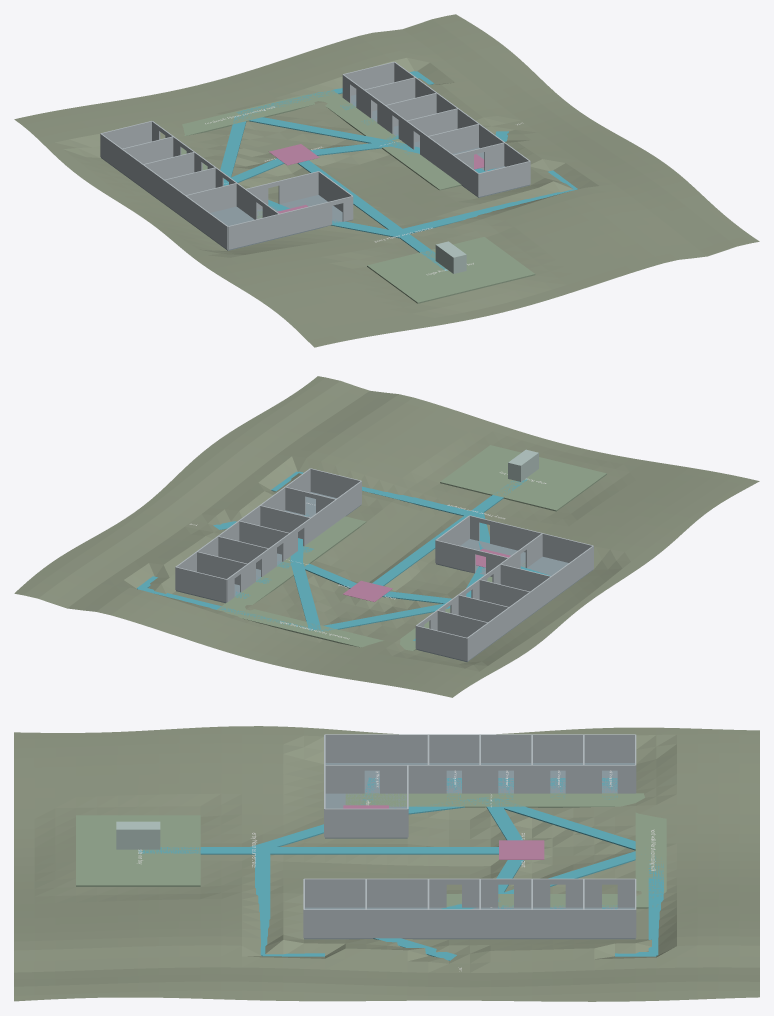
File: rough-shell.glb
The picture shows the model from 3 angles, top to bottom: view 1: azimuth 30°, elevation 25°; view 2: azimuth 150°, elevation 25°; view 3: azimuth 270°, elevation 25°; orthographic projection. The views are drawn at different scales.
Parts seen in each view (by area): view 1: Authored roadside terrain, Floor stage, Floor eastwalk, Floor northwalk, Wall office S, Wall plant S, Wall manager S, Wall manager W, route-07 support 0, Wall office N.001, Wall manager N, route-13 support 1 (+18 smaller); view 2: Authored roadside terrain, Floor stage, Floor eastwalk, Floor northwalk, Wall room1 N, Wall room5 N, Wall manager W, Wall office N.001, Wall office S, Wall plant S, Wall manager S, route-07 support 0 (+18 smaller); view 3: Authored roadside terrain, Floor stage, Floor westwalk, Wall manager W, Floor northwalk, Wall office E, route-03 support 0, Wall laundry E, Wall plant E, Wall laundry W, Wall plant W, Wall room8 E (+40 smaller).
Boxes of the visible parts, x1,y1,x2,y2 form: Authored roadside terrain: (14,14,759,347); Floor stage: (367,237,535,303); Floor eastwalk: (325,97,461,190); Floor northwalk: (182,90,342,136); Wall office S: (279,201,332,237); Wall plant S: (478,161,530,196); Wall manager S: (228,214,279,249); Wall manager W: (185,195,227,249); route-07 support 0: (239,114,393,145); Wall office N.001: (278,171,318,204); Wall manager N: (185,183,236,212); route-13 support 1: (397,189,576,234); Authored roadside terrain: (14,376,759,697); Floor stage: (440,445,606,511); Floor eastwalk: (228,516,366,606); Floor northwalk: (217,602,416,650); Wall room1 N: (416,625,467,661); Wall room5 N: (175,567,226,602); Wall manager W: (551,546,593,599); Wall office N.001: (435,540,475,572); Wall office S: (490,520,542,552); Wall plant S: (310,468,361,497); Wall manager S: (542,533,593,562); route-07 support 0: (290,561,321,630); Authored roadside terrain: (14,726,759,1001); Floor stage: (76,815,200,886); Floor westwalk: (345,793,635,807); Wall manager W: (325,734,427,762); Floor northwalk: (635,793,666,908); Wall office E: (325,808,407,837); route-03 support 0: (252,847,498,854); Wall laundry E: (366,909,428,938); Wall plant E: (304,909,366,938); Wall laundry W: (366,878,427,907); Wall plant W: (304,878,365,907); Wall room8 E: (428,909,480,938).
Bounding box in the file's own units: 61.8 × 3.76 × 72.
